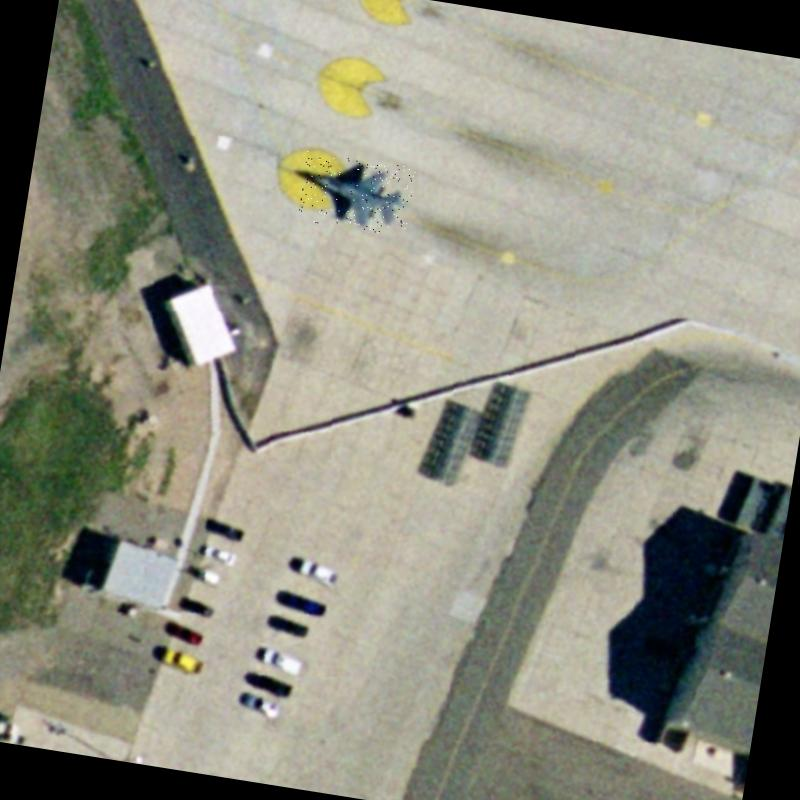A5: (296, 150, 416, 237)
